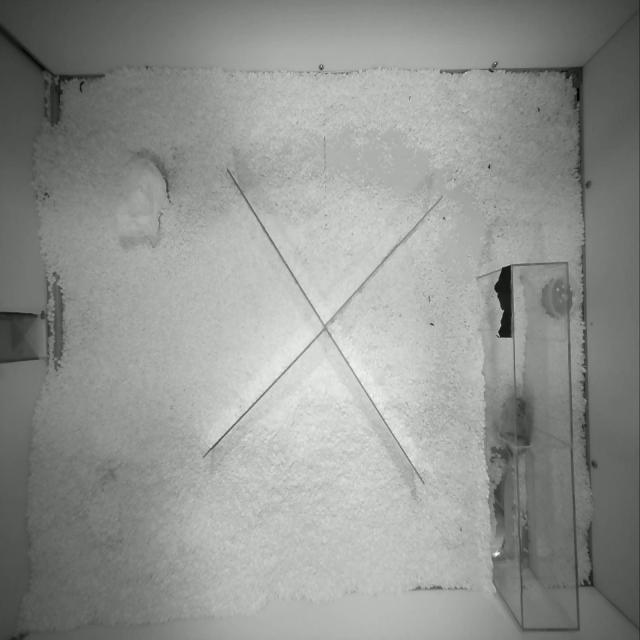adult_back: (499, 396, 532, 454)
